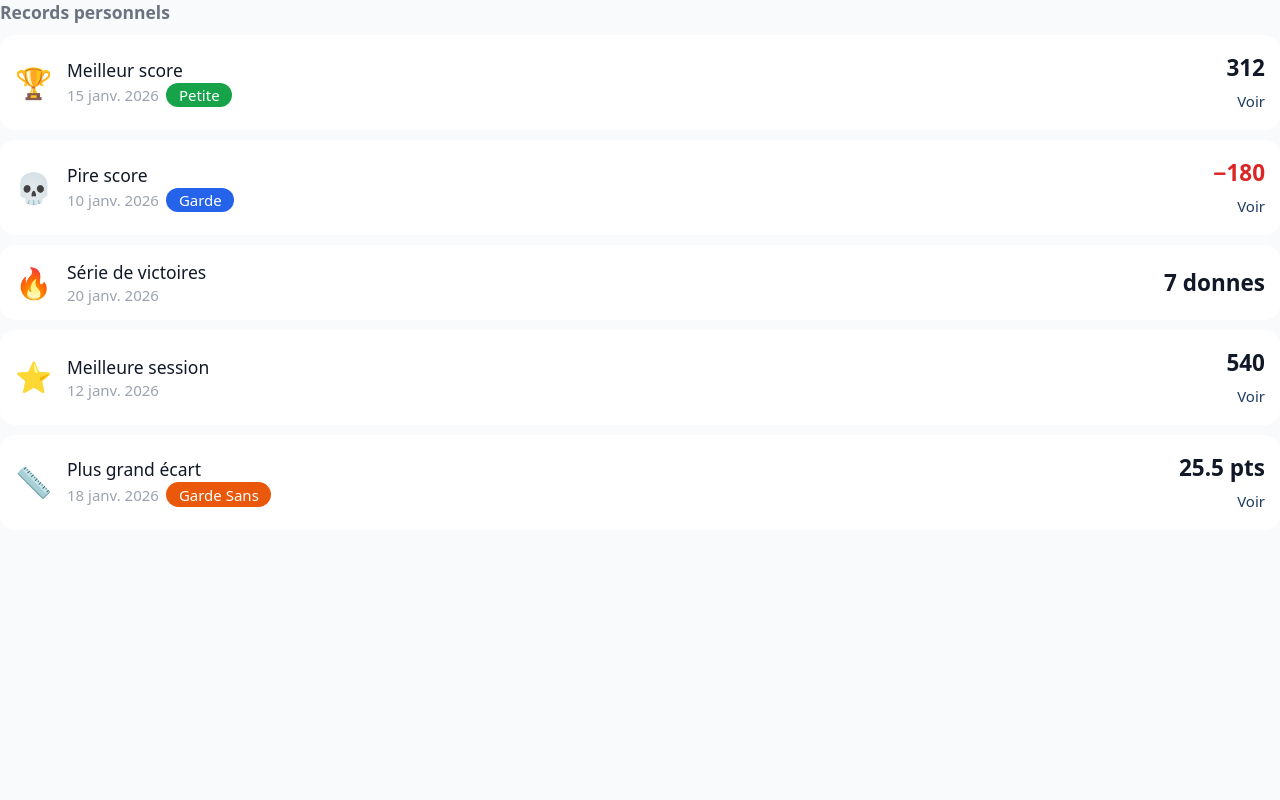
Test: PersonalRecords › opens game detail modal when clicking Voir on a game record
What coordinates should you click on to do the following:
click the button "Voir" below "312"
I would click on:
 (1251, 101)
Its box is [1237,91,1265,111].
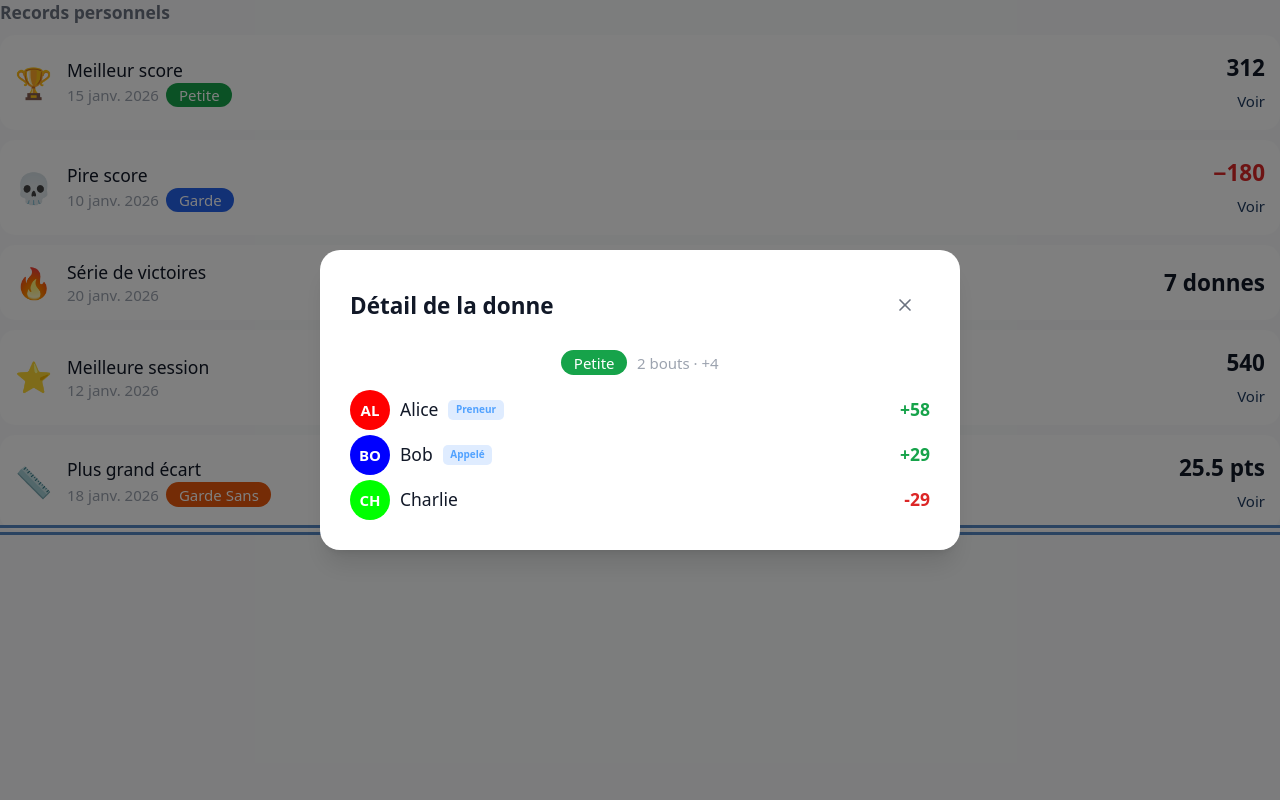
Check: the heading "Détail de la donne" is shown, box [350,288,554,322]
